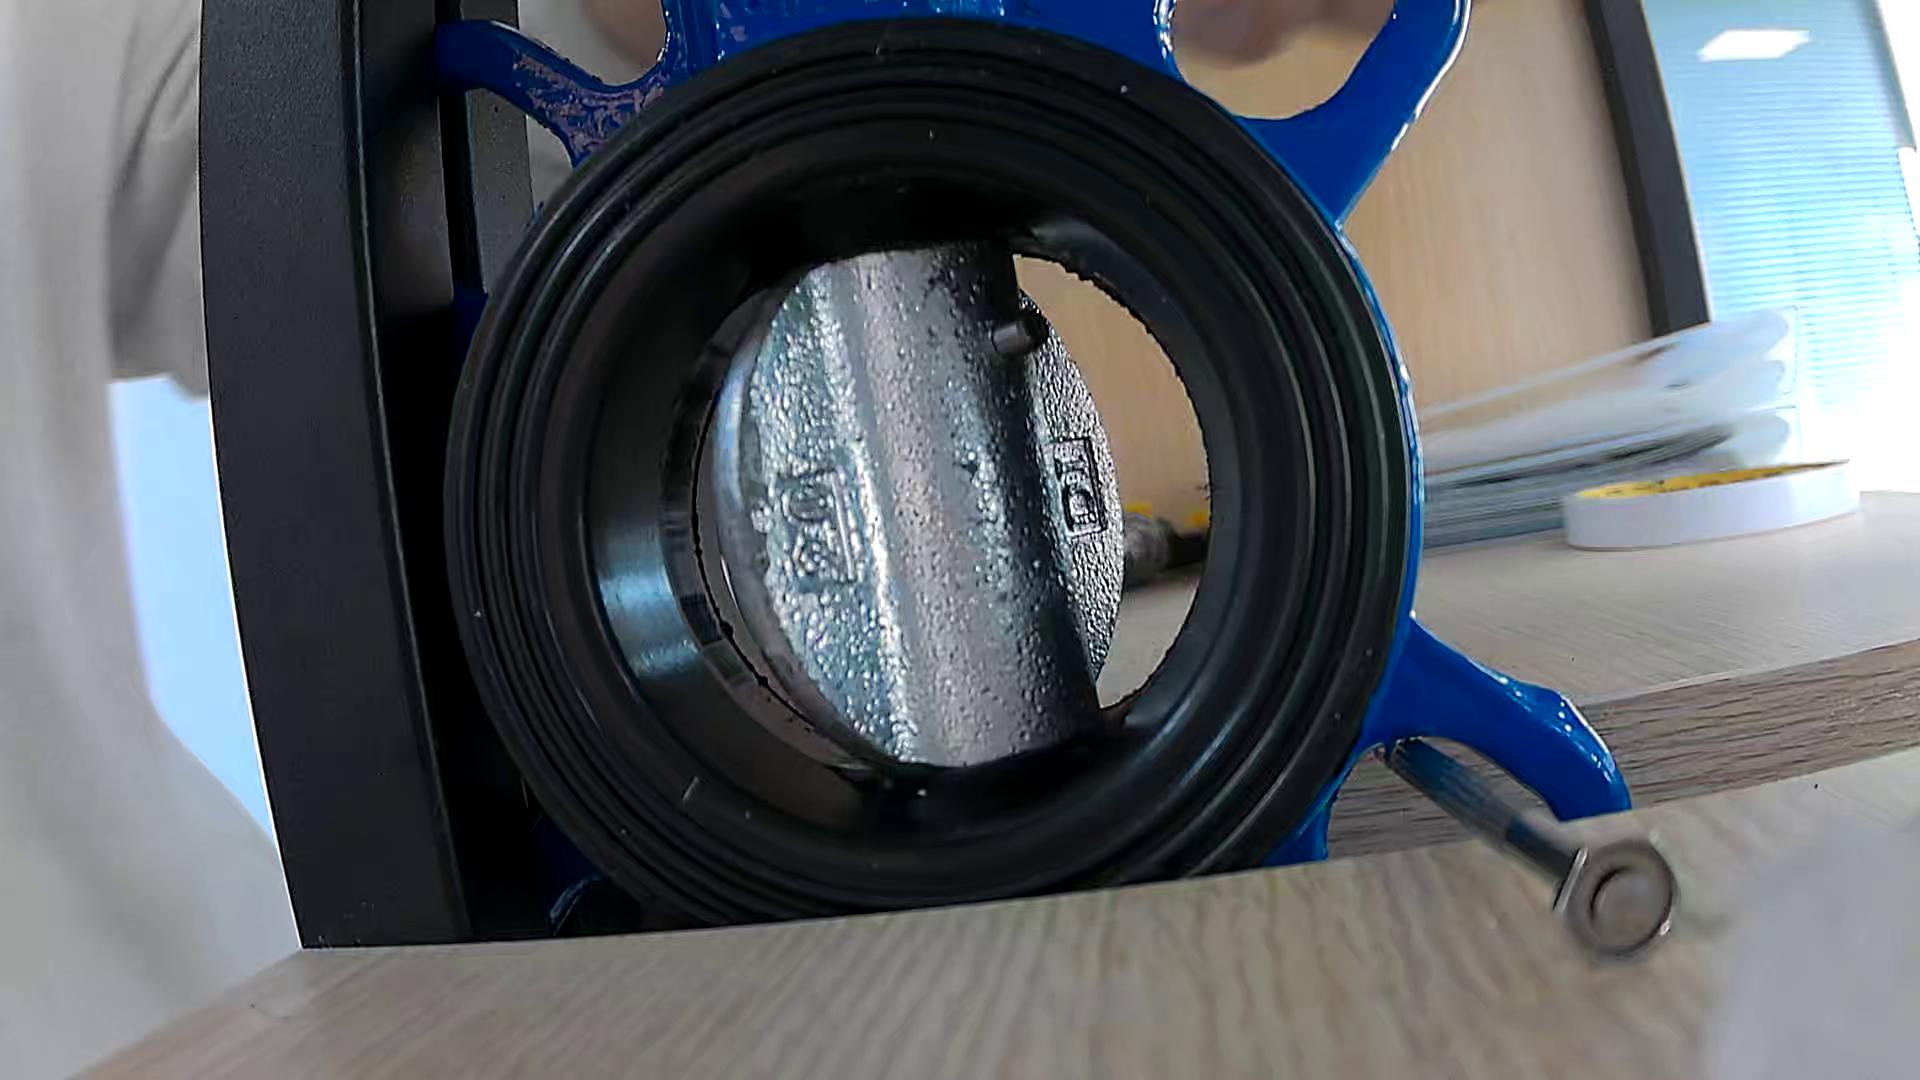valve: (712, 240, 1124, 765)
